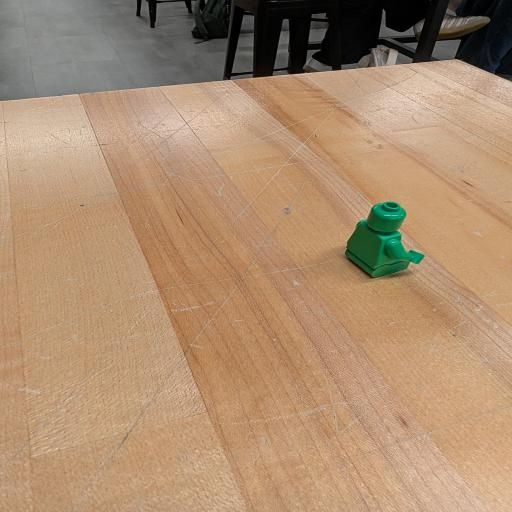Minifig: (346, 202, 423, 277)
